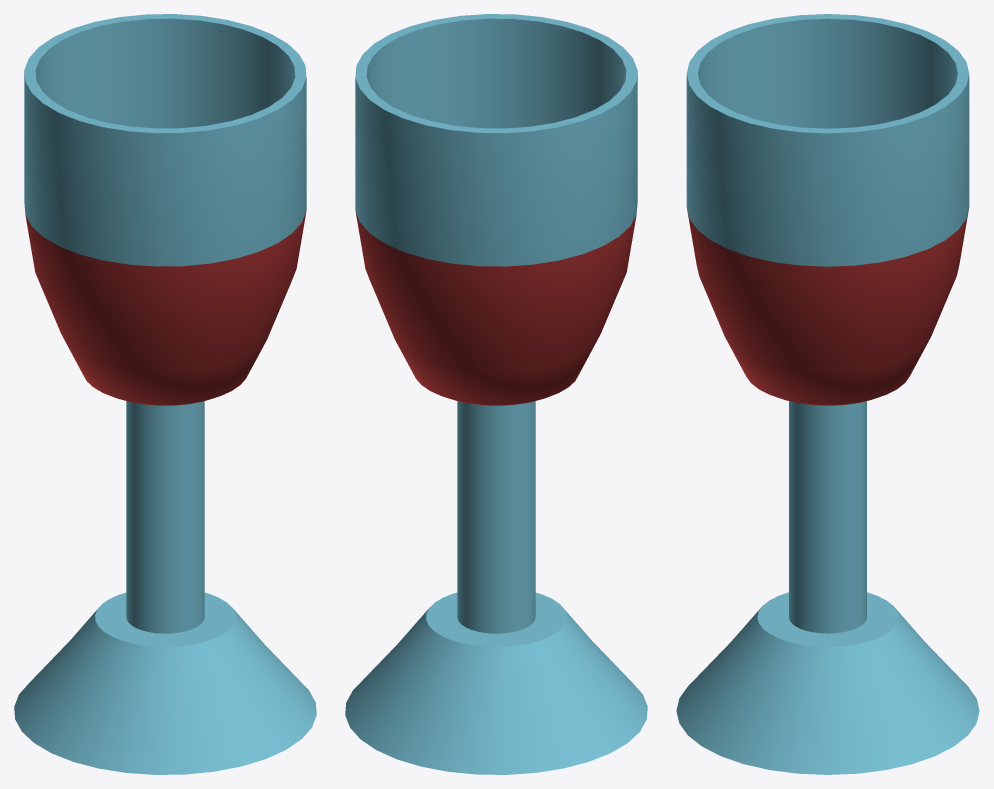
Rendered from Wine.fbx.
The picture shows the model from 3 angles, left to right: view 1: azimuth 30°, elevation 25°; view 2: azimuth 150°, elevation 25°; view 3: azimuth 270°, elevation 25°; orthographic projection.
Visible parts, largest first — view 1: Cylinder; view 2: Cylinder; view 3: Cylinder.
Boxes of the visible parts, x1,y1,x2,y2 form: Cylinder: [14, 14, 316, 774]; Cylinder: [345, 14, 647, 774]; Cylinder: [676, 14, 979, 774].
Size of the model in its own units: 60.12 by 139 by 60.12.
